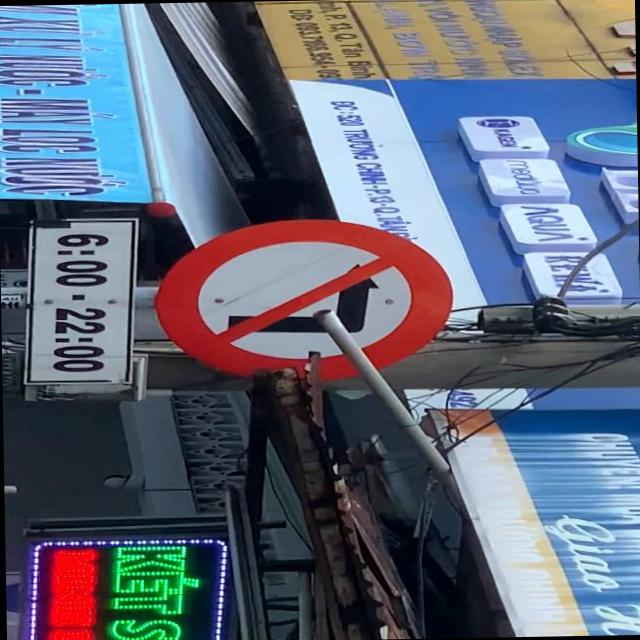P-123a: (154, 217, 453, 387)
